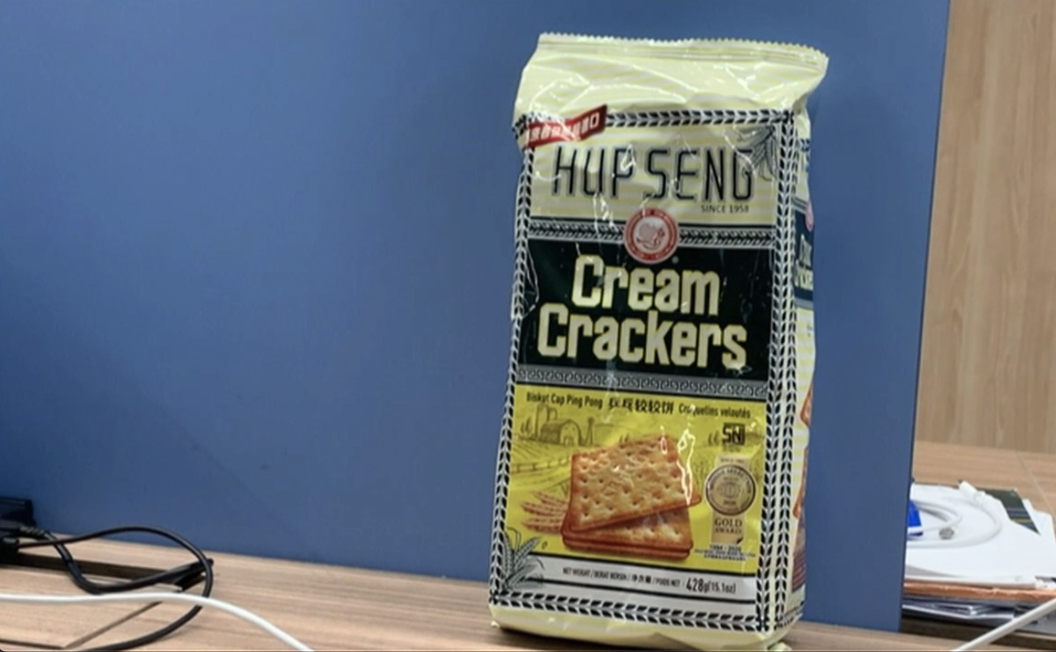crackers_400g-499g: (520, 98, 769, 614)
